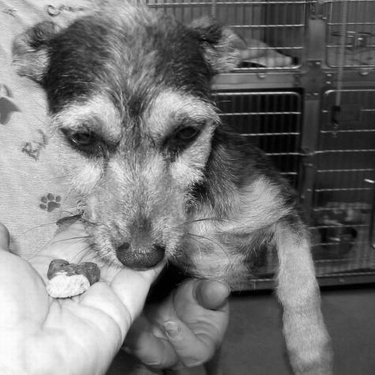dog: (10, 3, 335, 371)
